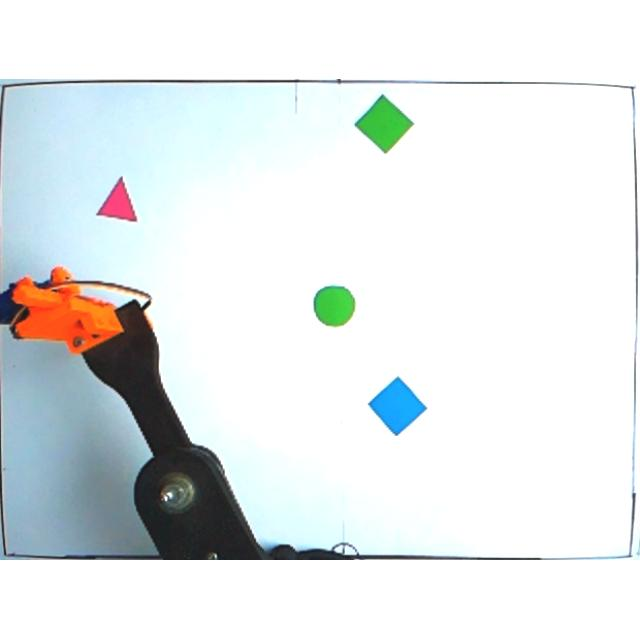blueSquare: (367, 378, 428, 438)
greenCircle: (312, 285, 358, 329)
greenSquare: (352, 94, 416, 156)
pinkTriangle: (96, 176, 140, 224)
